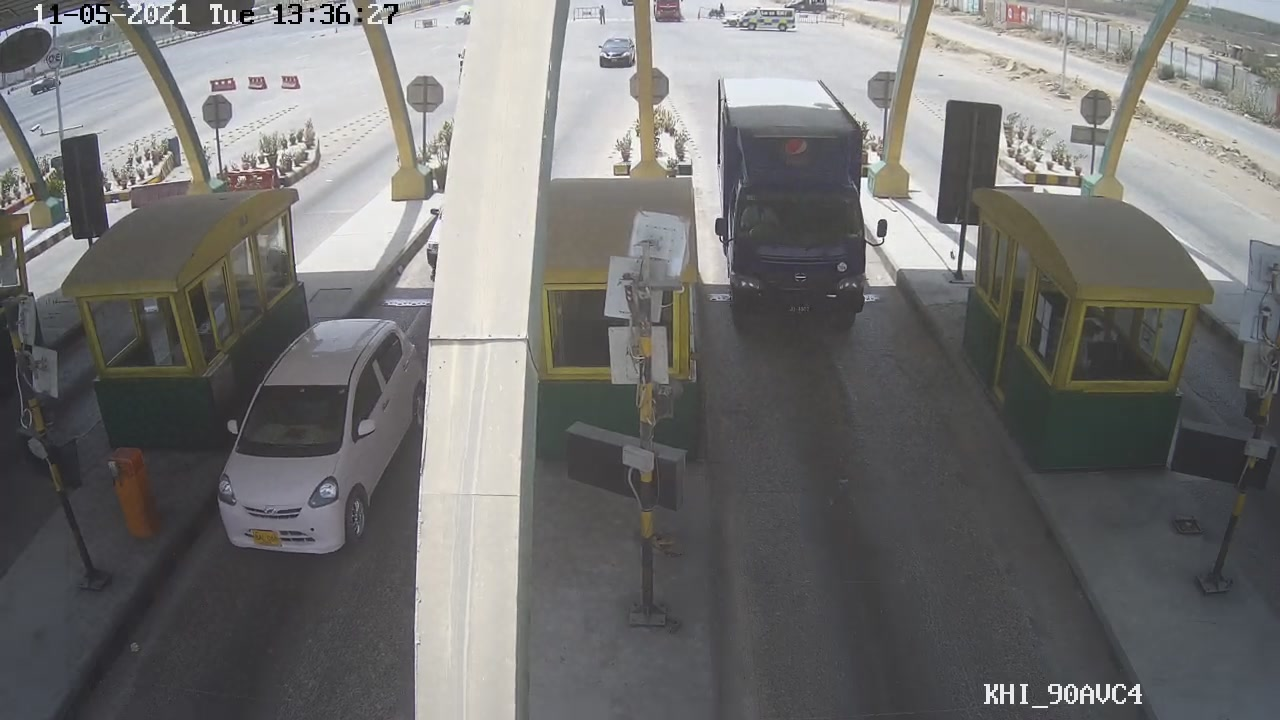F5: (705, 85, 890, 331)
